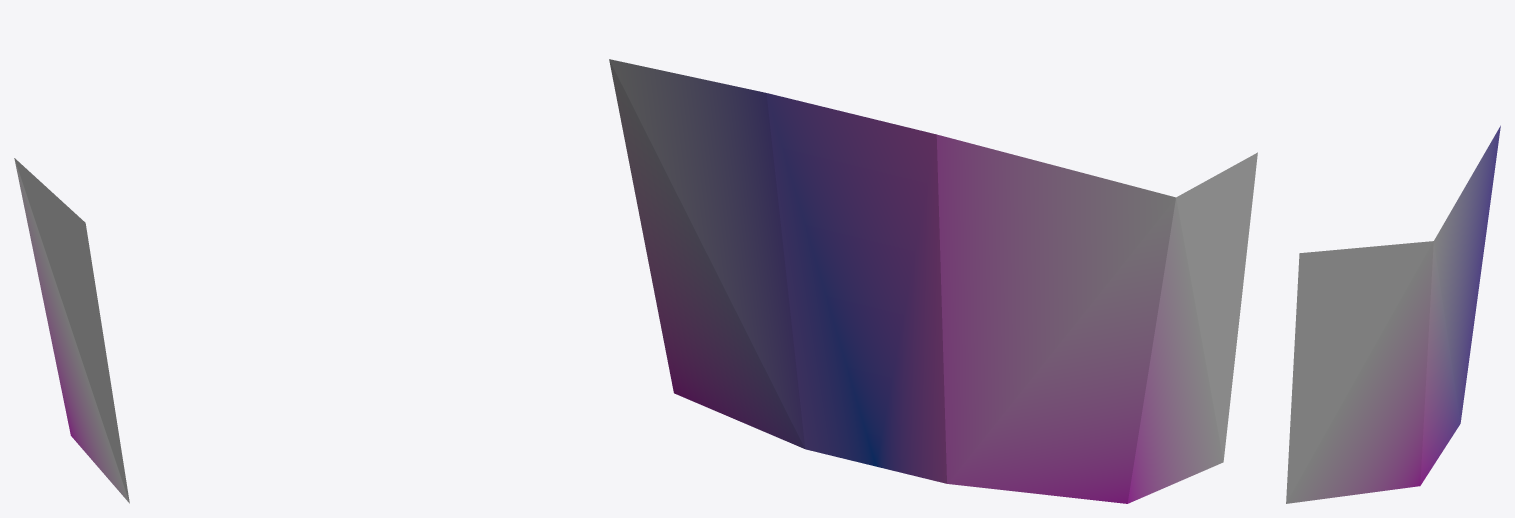
The picture shows the model from 3 angles, left to right: view 1: azimuth 30°, elevation 25°; view 2: azimuth 150°, elevation 25°; view 3: azimuth 270°, elevation 25°; orthographic projection. The views are drawn at different scales.
Parts seen in each view (by area): view 1: model_1121; view 2: model_1121; view 3: model_1121.
Part boxes in pixels (x1,y1,x2,y2): model_1121: (14,158,129,503); model_1121: (609,59,1257,503); model_1121: (1286,125,1500,503).
Bounding box in the file's own units: 40 × 26 × 16.
